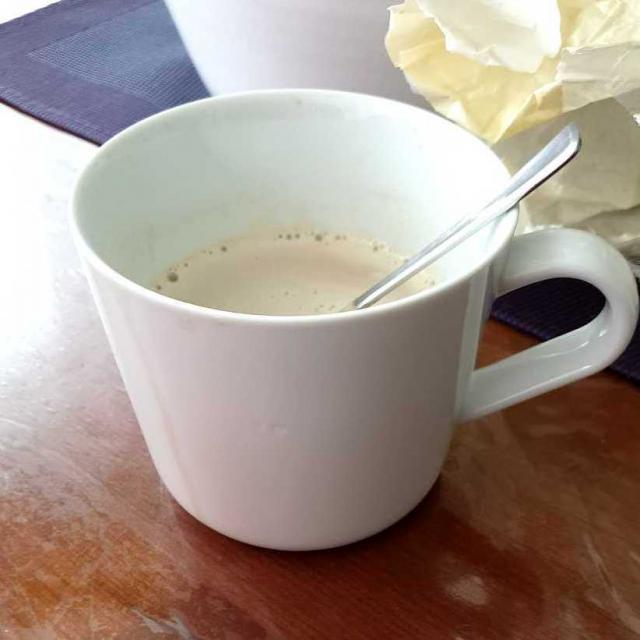white-coffee-with-caffeine: (158, 227, 404, 313)
